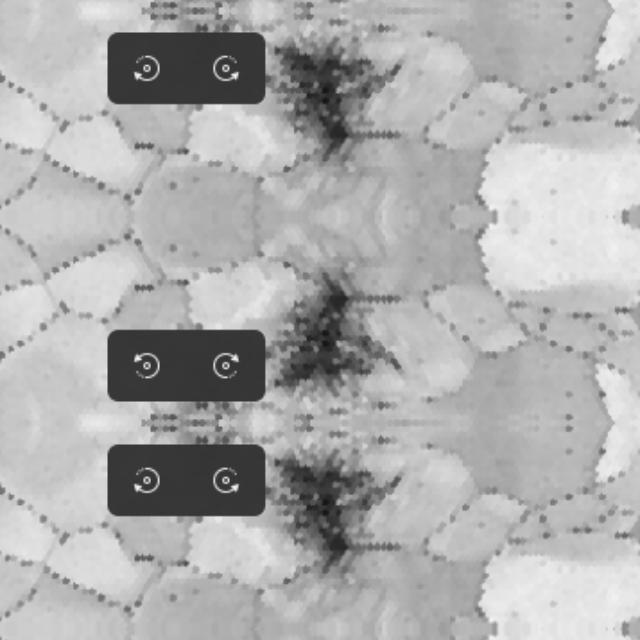good_void: (268, 252, 404, 410), (268, 22, 404, 180), (268, 434, 404, 592), (165, 587, 181, 603), (165, 242, 181, 257), (165, 175, 181, 190), (563, 444, 573, 458), (475, 313, 486, 325), (563, 410, 575, 421), (475, 107, 486, 119), (475, 519, 486, 531), (563, 11, 575, 22), (563, 387, 573, 400), (563, 32, 573, 45), (563, 424, 575, 434), (563, 0, 575, 8)
